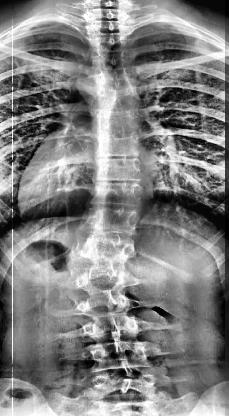Vertebrae: (68, 284, 138, 318), (65, 257, 134, 291), (82, 340, 150, 374), (90, 369, 158, 401), (70, 232, 138, 262), (84, 178, 146, 210), (78, 312, 140, 342), (76, 208, 142, 236), (91, 152, 145, 184), (92, 131, 144, 159), (88, 86, 138, 112), (90, 111, 139, 137), (89, 46, 135, 70), (90, 66, 134, 90), (91, 32, 131, 52)
